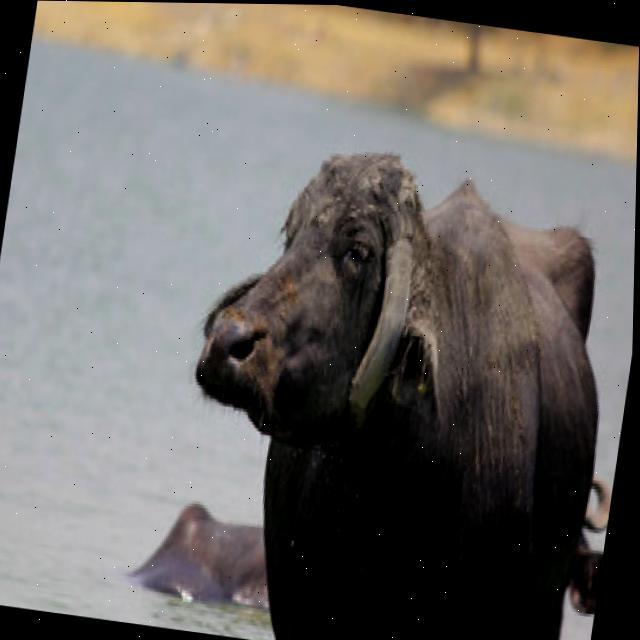Buffalo: (142, 120, 637, 640)
